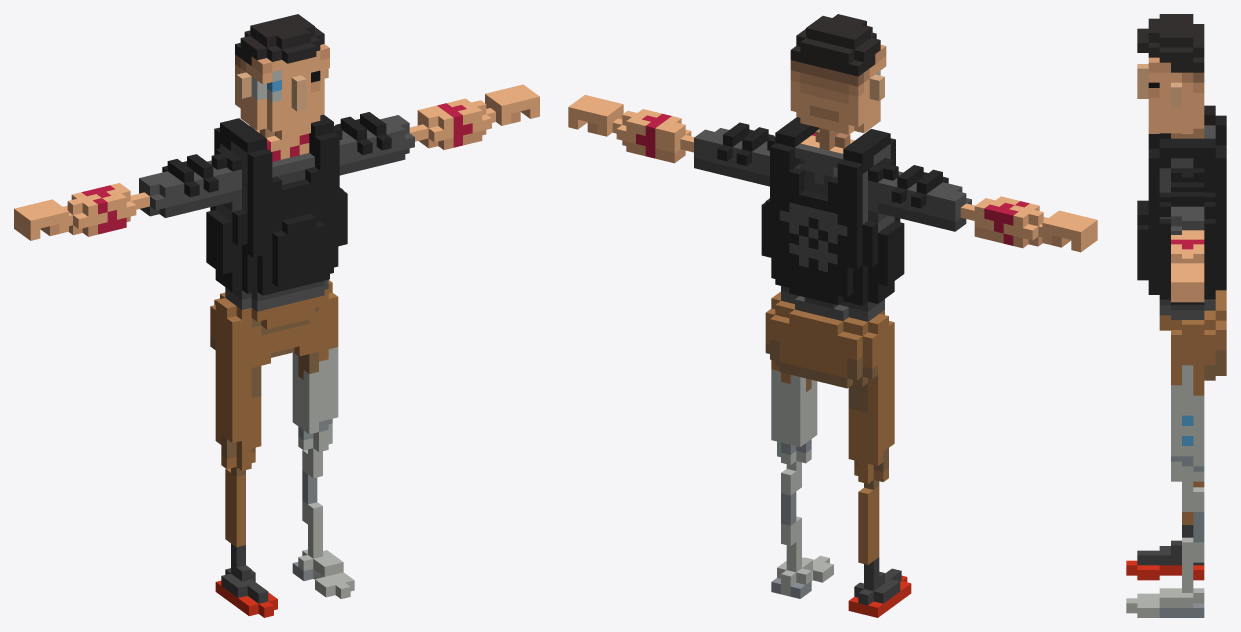
Rendered from WR_Chr_Final_PROTO-1.obj.
3 renders of one model, left to right at view 1: azimuth 30°, elevation 25°; view 2: azimuth 150°, elevation 25°; view 3: azimuth 270°, elevation 25°, orthographic.
Bounding box in the file's own units: 5.3 × 5.6 × 0.9.
Materials: 1 (1 with a texture image).
